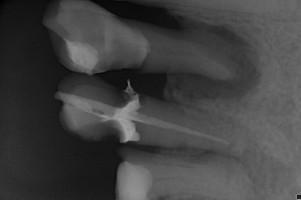Furcation Involvement: (164, 10, 262, 101)
